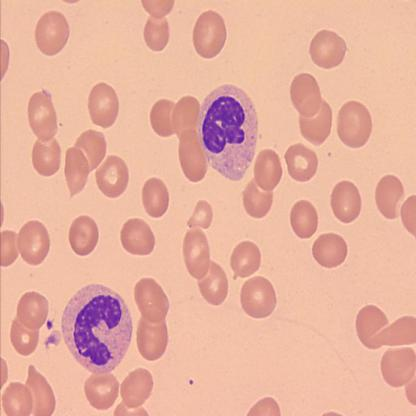Band Neutrophil: (60, 283, 134, 377), (194, 81, 260, 184)
